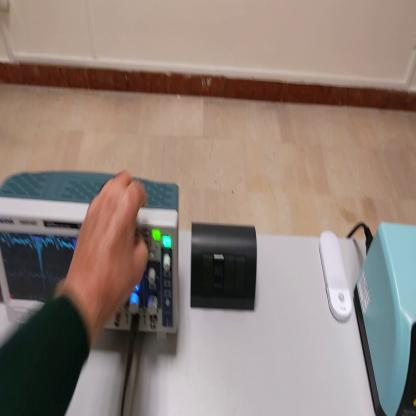hand: (66, 171, 150, 323)
oscilloscope: (2, 168, 179, 338)
welder station: (349, 229, 416, 413)
